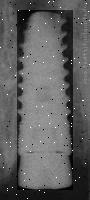MIS: (17, 10, 73, 190)
